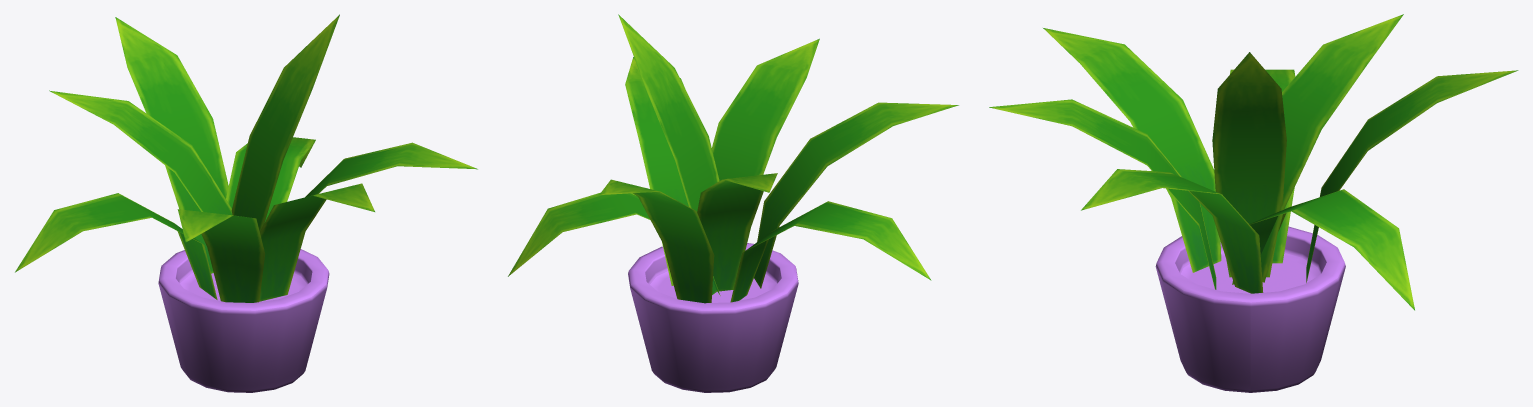
Rendered from Plant Pot.fbx.
3 renders of one model, left to right at view 1: azimuth 30°, elevation 25°; view 2: azimuth 150°, elevation 25°; view 3: azimuth 270°, elevation 25°, orthographic. The views are drawn at different scales.
Visible parts, largest first — view 1: Potted Plant; view 2: Potted Plant; view 3: Potted Plant.
Part boxes in pixels (bbox=[...]): Potted Plant: bbox=[15, 14, 477, 392]; Potted Plant: bbox=[508, 14, 958, 392]; Potted Plant: bbox=[989, 14, 1518, 392].
Size of the model in its own units: 43.13 by 35.79 by 47.14.
